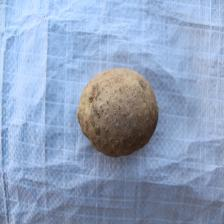Diseased-fungal potato: (76, 66, 158, 158)
